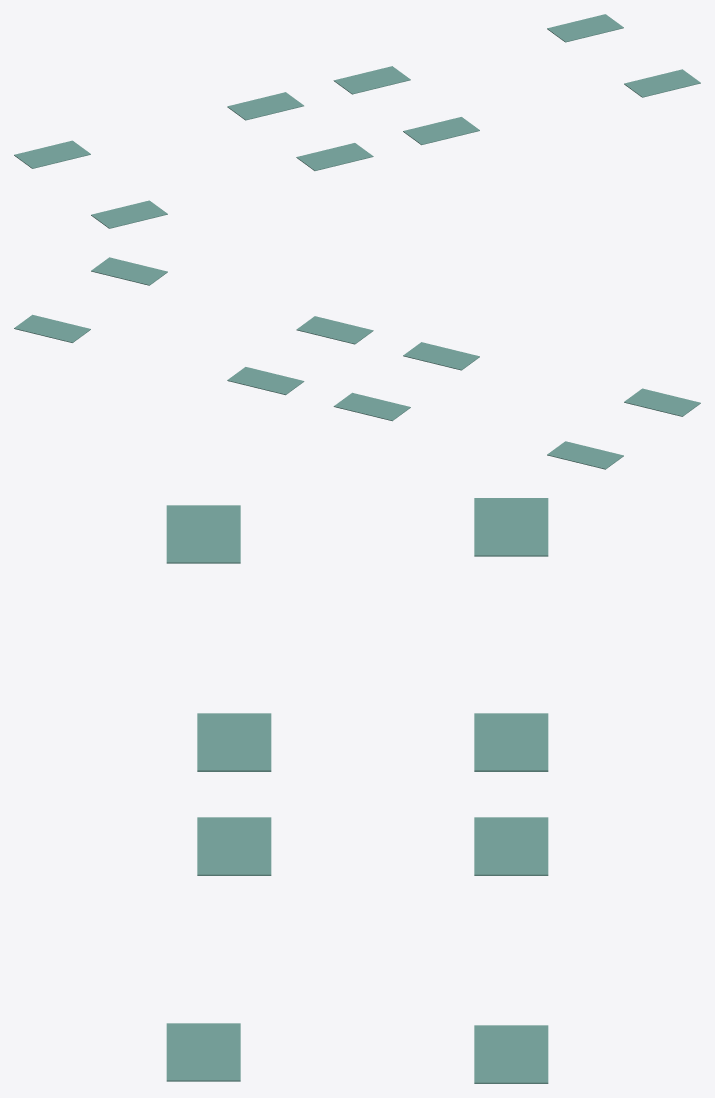
The model's file is HauntedBakery_Terrain.fbx.
The picture shows the model from 3 angles, top to bottom: view 1: azimuth 30°, elevation 25°; view 2: azimuth 150°, elevation 25°; view 3: azimuth 270°, elevation 25°; orthographic projection. The views are drawn at different scales.
Parts seen in each view (by area): view 1: HAU_GardenBed_02, HAU_GardenBed_07, HAU_GardenBed_03, HAU_GardenBed_04, HAU_GardenBed_05, HAU_GardenBed_06, HAU_GardenBed, HAU_GardenBed_01; view 2: HAU_GardenBed_01, HAU_GardenBed, HAU_GardenBed_02, HAU_GardenBed_06, HAU_GardenBed_03, HAU_GardenBed_04, HAU_GardenBed_07, HAU_GardenBed_05; view 3: HAU_GardenBed, HAU_GardenBed_01, HAU_GardenBed_02, HAU_GardenBed_03, HAU_GardenBed_04, HAU_GardenBed_05, HAU_GardenBed_06, HAU_GardenBed_07.
Boxes of the visible parts, x1,y1,x2,y2 form: HAU_GardenBed_02: [227, 92, 303, 120]; HAU_GardenBed_07: [624, 69, 700, 97]; HAU_GardenBed_03: [333, 66, 410, 94]; HAU_GardenBed_04: [14, 140, 90, 168]; HAU_GardenBed_05: [547, 14, 623, 42]; HAU_GardenBed_06: [91, 200, 167, 228]; HAU_GardenBed: [296, 143, 373, 170]; HAU_GardenBed_01: [403, 117, 479, 145]; HAU_GardenBed_01: [296, 316, 373, 344]; HAU_GardenBed: [403, 342, 479, 370]; HAU_GardenBed_02: [333, 392, 410, 421]; HAU_GardenBed_06: [624, 388, 700, 416]; HAU_GardenBed_03: [227, 367, 304, 395]; HAU_GardenBed_04: [547, 441, 623, 469]; HAU_GardenBed_07: [91, 257, 167, 285]; HAU_GardenBed_05: [14, 314, 90, 342]; HAU_GardenBed: [197, 713, 271, 771]; HAU_GardenBed_01: [197, 817, 271, 875]; HAU_GardenBed_02: [474, 713, 548, 771]; HAU_GardenBed_03: [474, 817, 548, 875]; HAU_GardenBed_04: [474, 498, 548, 556]; HAU_GardenBed_05: [474, 1025, 548, 1083]; HAU_GardenBed_06: [166, 505, 240, 563]; HAU_GardenBed_07: [166, 1023, 240, 1081].
Bounding box in the file's own units: 222 × 1.54 × 62.
